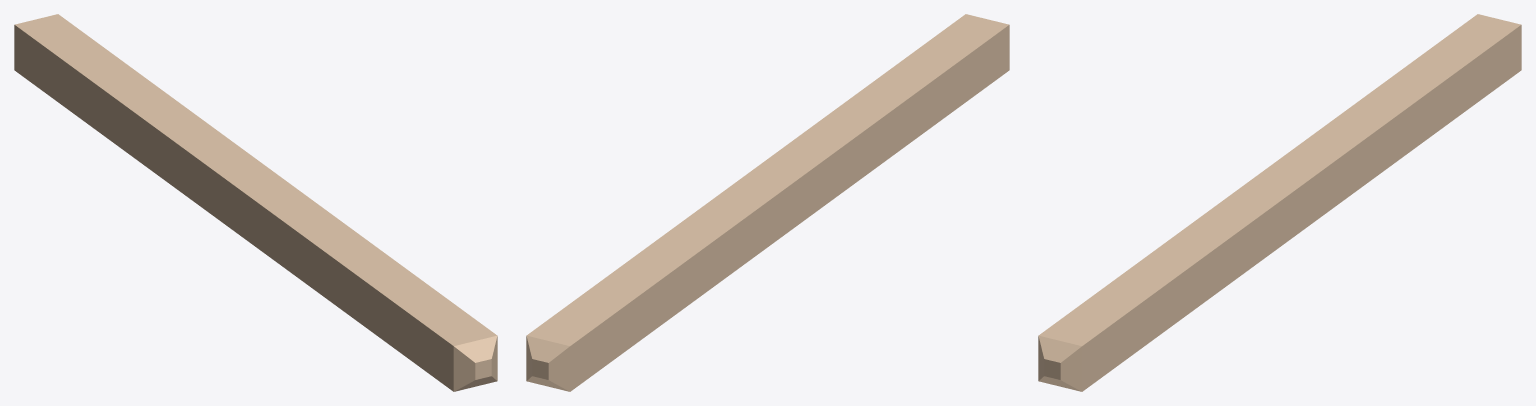
File: _6130xx11121_PIN.gltf
The picture shows the model from 3 angles, left to right: view 1: azimuth 30°, elevation 25°; view 2: azimuth 150°, elevation 25°; view 3: azimuth 330°, elevation 25°; orthographic projection.
Visible parts, largest first — view 1: mesh90951, mesh90953, mesh90957, mesh90958; view 2: mesh90951, mesh90953, mesh90948, mesh90950; view 3: mesh90952, mesh90953, mesh90956, mesh90958.
Boxes of the visible parts, x1,y1,x2,y2 form: mesh90951: (14, 25, 453, 391); mesh90953: (15, 14, 496, 345); mesh90957: (453, 346, 475, 391); mesh90958: (454, 335, 497, 362); mesh90951: (570, 25, 1009, 391); mesh90953: (527, 14, 1008, 345); mesh90948: (548, 346, 570, 391); mesh90950: (526, 335, 569, 362); mesh90952: (1082, 25, 1521, 391); mesh90953: (1039, 14, 1520, 345); mesh90956: (1060, 346, 1082, 391); mesh90958: (1038, 335, 1081, 362).
Size of the model in its own units: 0.00064 by 0.00064 by 0.0115.
